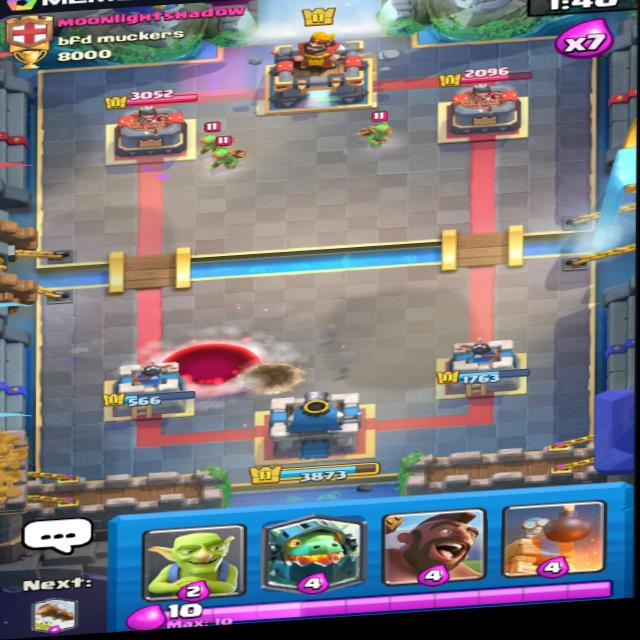spear-goblin: (196, 121, 233, 155), (358, 120, 396, 146), (209, 146, 248, 170)
